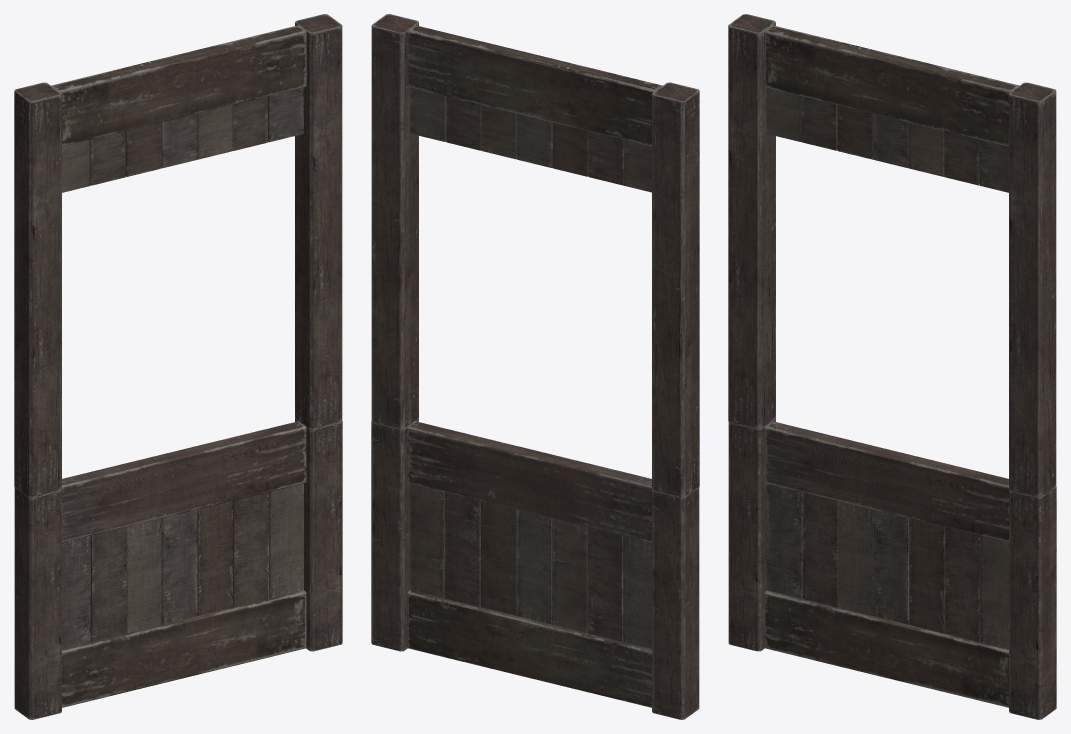
File: WoodDoor2.fbx
The picture shows the model from 3 angles, left to right: view 1: azimuth 30°, elevation 25°; view 2: azimuth 150°, elevation 25°; view 3: azimuth 330°, elevation 25°; orthographic projection.
Visible parts, largest first — view 1: Wooddorr2.mo; view 2: Wooddorr2.mo; view 3: Wooddorr2.mo.
Part boxes in pixels (left/top/right/bottom): Wooddorr2.mo: left=14, top=14, right=342, bottom=719; Wooddorr2.mo: left=371, top=14, right=699, bottom=719; Wooddorr2.mo: left=728, top=14, right=1056, bottom=719.
Bounding box in the file's own units: 224 × 422 × 21.37.
